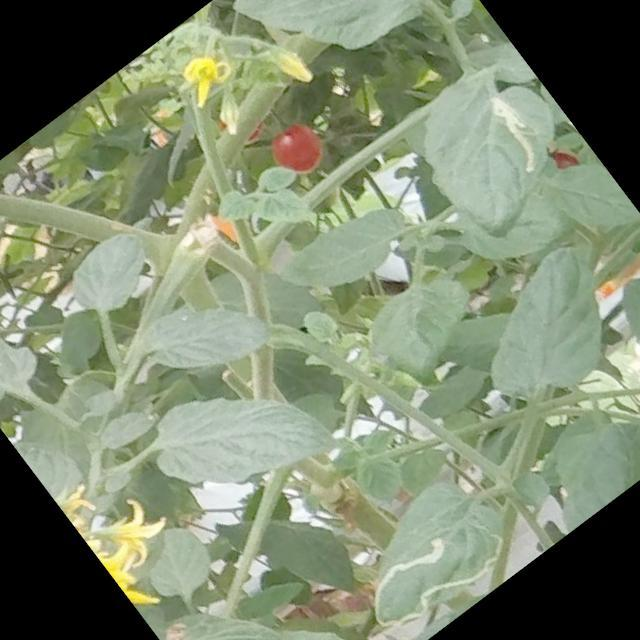Tomato target spot leaf: (380, 31, 601, 258), (321, 450, 534, 640)
